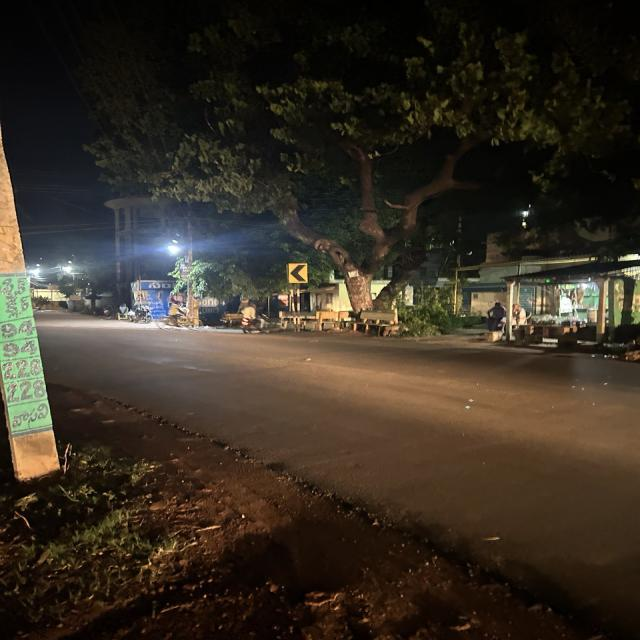chevron_left: (285, 261, 310, 289)
